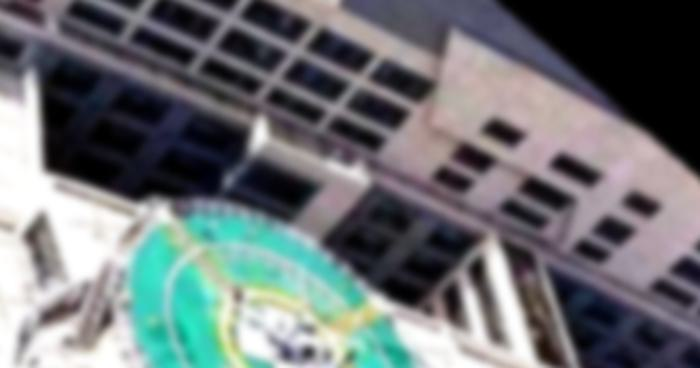Apron: (212, 270, 371, 368)
